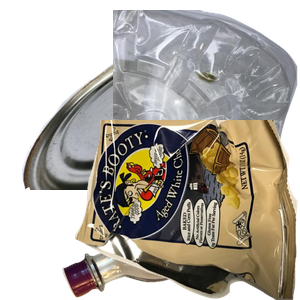glass: (60, 180, 300, 300)
metal: (19, 22, 259, 202)
plastic: (113, 10, 300, 190)
trash: (75, 120, 300, 300)
